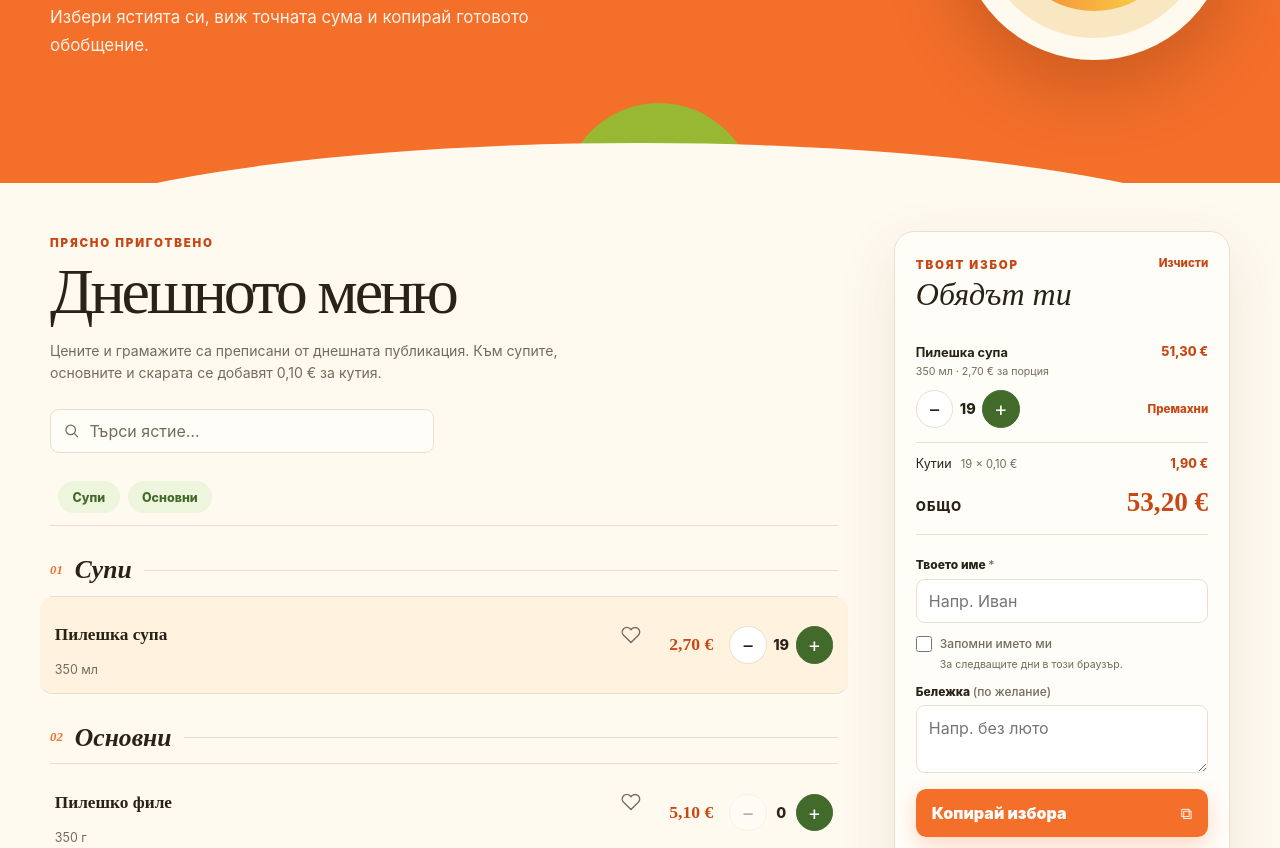
interactive menu › enforces the quantity limit when editing from the basket
(page scrolled)
Click the button named "Добави Пилешка супа в избора": (1001, 409) [982, 390, 1020, 428]
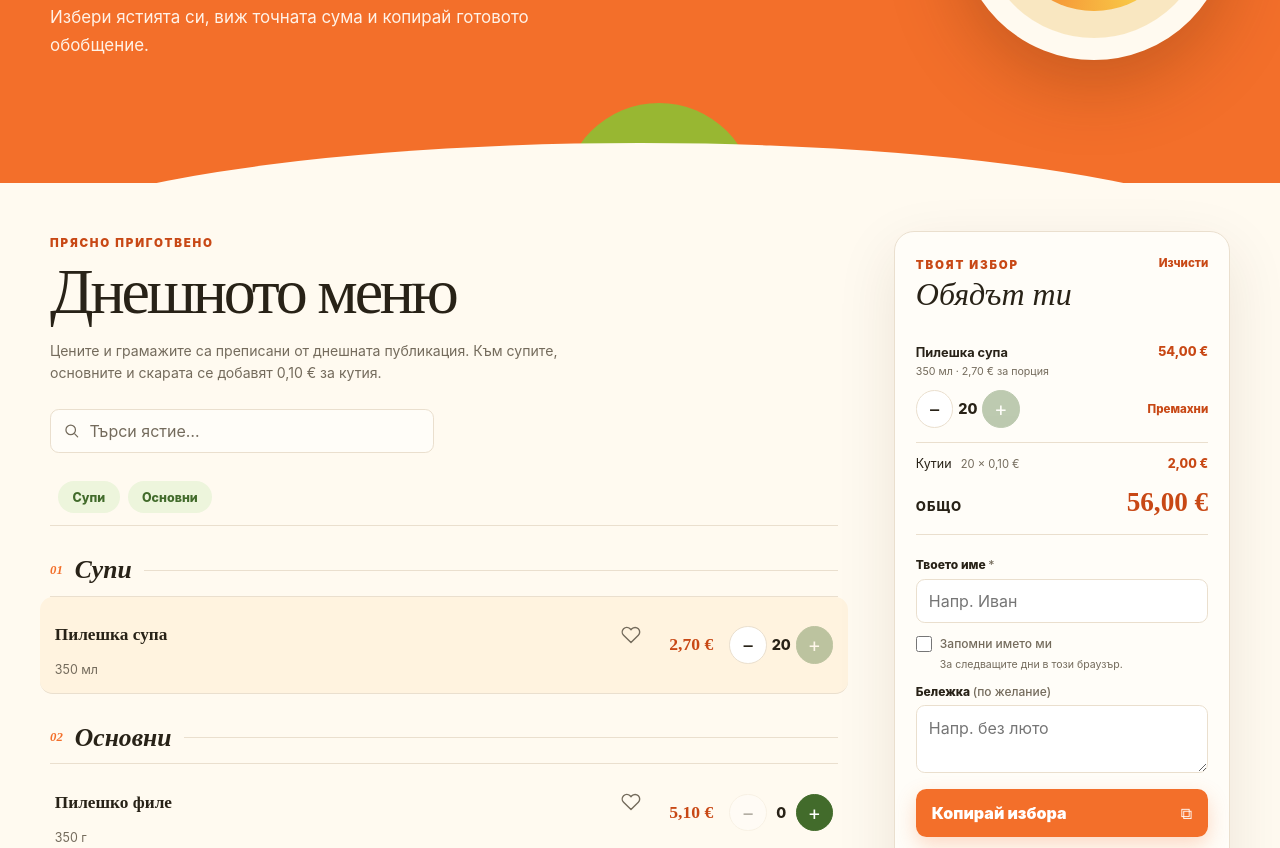
Now the button named "Добави Пилешка супа в избора" is disabled, box [982, 390, 1020, 428]
Now the button named "Добави Пилешка супа" is disabled, box [796, 626, 833, 664]
Now the text "54,00 €" is shown, box [1158, 344, 1208, 359]
